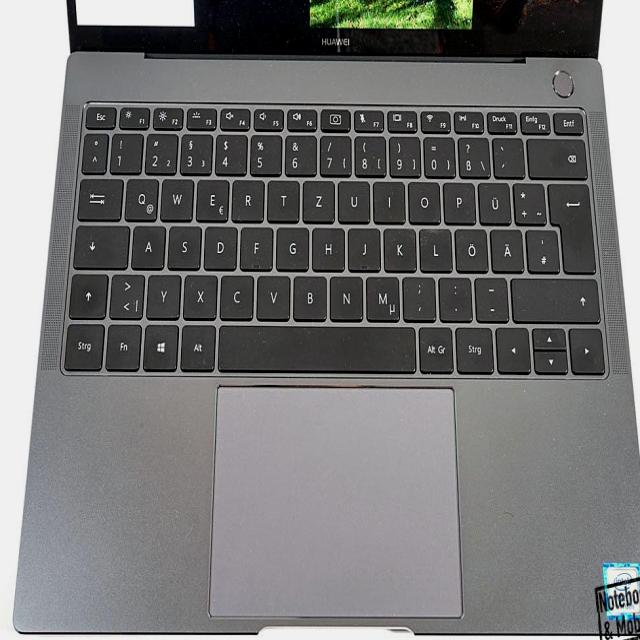0: (421, 133, 455, 175)
1: (108, 129, 142, 171)
2: (143, 129, 177, 173)
3: (178, 130, 212, 172)
4: (214, 130, 246, 172)
5: (248, 130, 281, 174)
6: (283, 131, 317, 173)
7: (318, 131, 351, 175)
8: (352, 131, 384, 175)
9: (386, 132, 419, 176)
a: (129, 221, 165, 267)
accent: (491, 133, 523, 175)
ae: (489, 225, 523, 271)
alt-left: (179, 320, 215, 369)
altgr-right: (416, 322, 452, 371)
b: (291, 272, 327, 318)
c: (218, 271, 254, 319)
caret: (81, 130, 107, 170)
comma: (400, 272, 434, 320)
d: (201, 221, 236, 269)
del: (526, 134, 586, 178)
e: (194, 176, 228, 220)
enter: (546, 178, 595, 270)
f: (238, 222, 272, 268)
g: (274, 223, 309, 269)
h: (310, 223, 344, 269)
hash: (523, 224, 558, 270)
i: (371, 177, 405, 221)
j: (346, 223, 379, 269)
k: (382, 224, 416, 270)
keyboard: (57, 96, 615, 386)
l: (417, 224, 451, 270)
less: (108, 269, 144, 317)
m: (363, 272, 399, 320)
minus: (472, 273, 507, 319)
n: (327, 272, 363, 320)
o: (406, 178, 440, 222)
oe: (453, 225, 488, 271)
p: (441, 178, 475, 222)
plus: (511, 179, 545, 223)
point: (436, 273, 472, 319)
q: (123, 173, 159, 219)
r: (230, 175, 264, 221)
s: (165, 222, 200, 268)
shift-left: (67, 270, 107, 318)
shift-lock: (72, 221, 129, 267)
shift-right: (508, 273, 598, 321)
space: (214, 321, 416, 370)
ss: (456, 133, 489, 177)
strg-left: (62, 318, 104, 368)
strg-right: (453, 322, 493, 371)
t: (266, 176, 299, 220)
tab: (76, 173, 122, 219)
u: (336, 176, 370, 222)
ue: (476, 179, 510, 223)
v: (254, 271, 290, 319)
w: (159, 175, 193, 219)
x: (182, 270, 217, 318)
y: (145, 270, 180, 318)
z: (301, 177, 335, 221)
